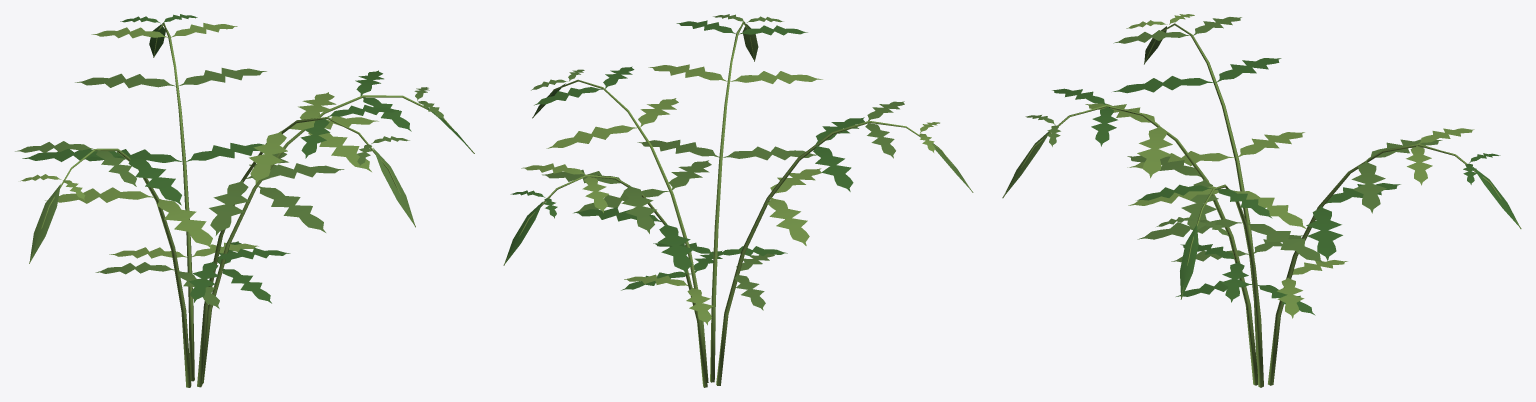
Rendered from meadow_fern_arching.glb.
3 views of the same model, side by side, from view 1: azimuth 30°, elevation 25°; view 2: azimuth 150°, elevation 25°; view 3: azimuth 270°, elevation 25° (orthographic). The views are drawn at different scales.
Parts seen in each view (by area): view 1: body; view 2: body; view 3: body.
Part boxes in pixels (x1,y1,x2,y2): body: [15, 14, 474, 387]; body: [503, 14, 973, 387]; body: [1002, 14, 1521, 387].
Bounding box in the file's own units: 0.8007 × 0.5172 × 0.8025.
